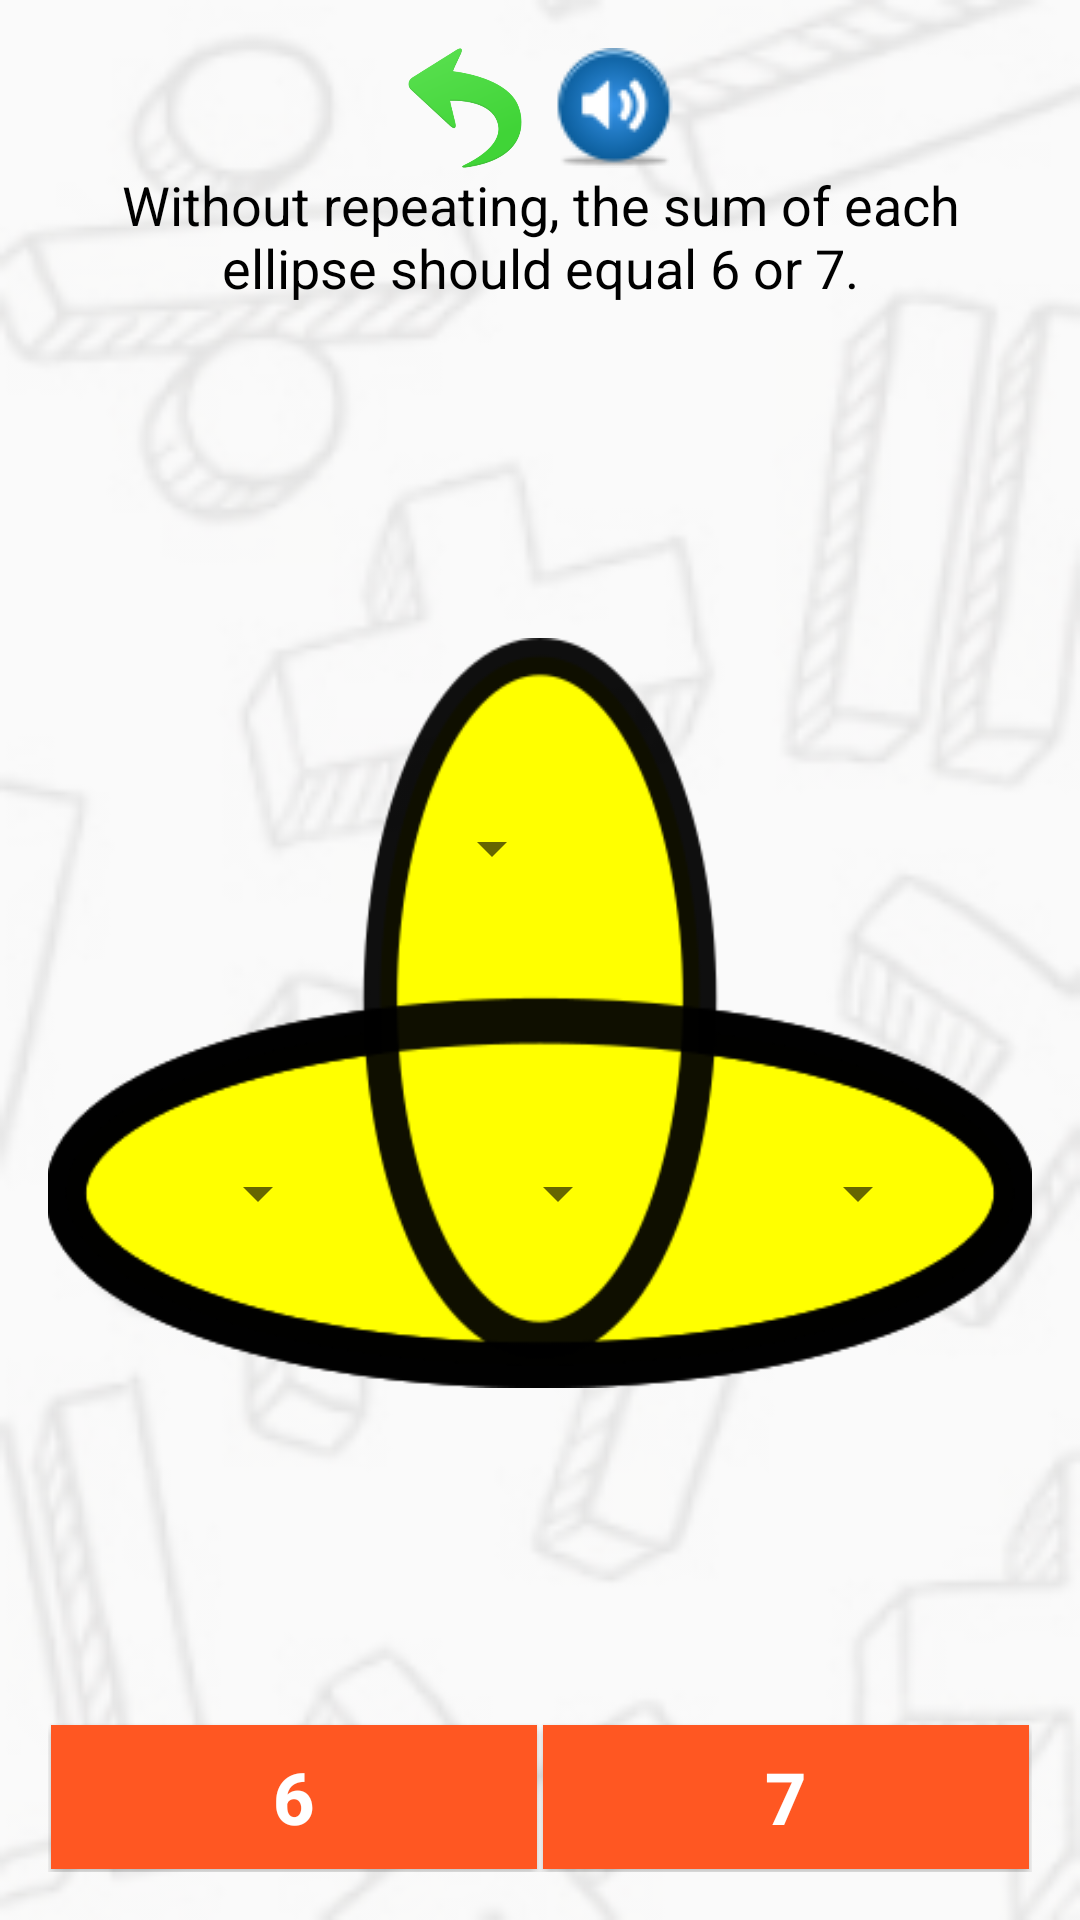

Named icons in this screenshot (1080×1920) and their bounding boxes, bbox=(x1, y1, x2, y2):
som: bbox=(557, 48, 672, 166)
voltar: bbox=(408, 48, 522, 168)
